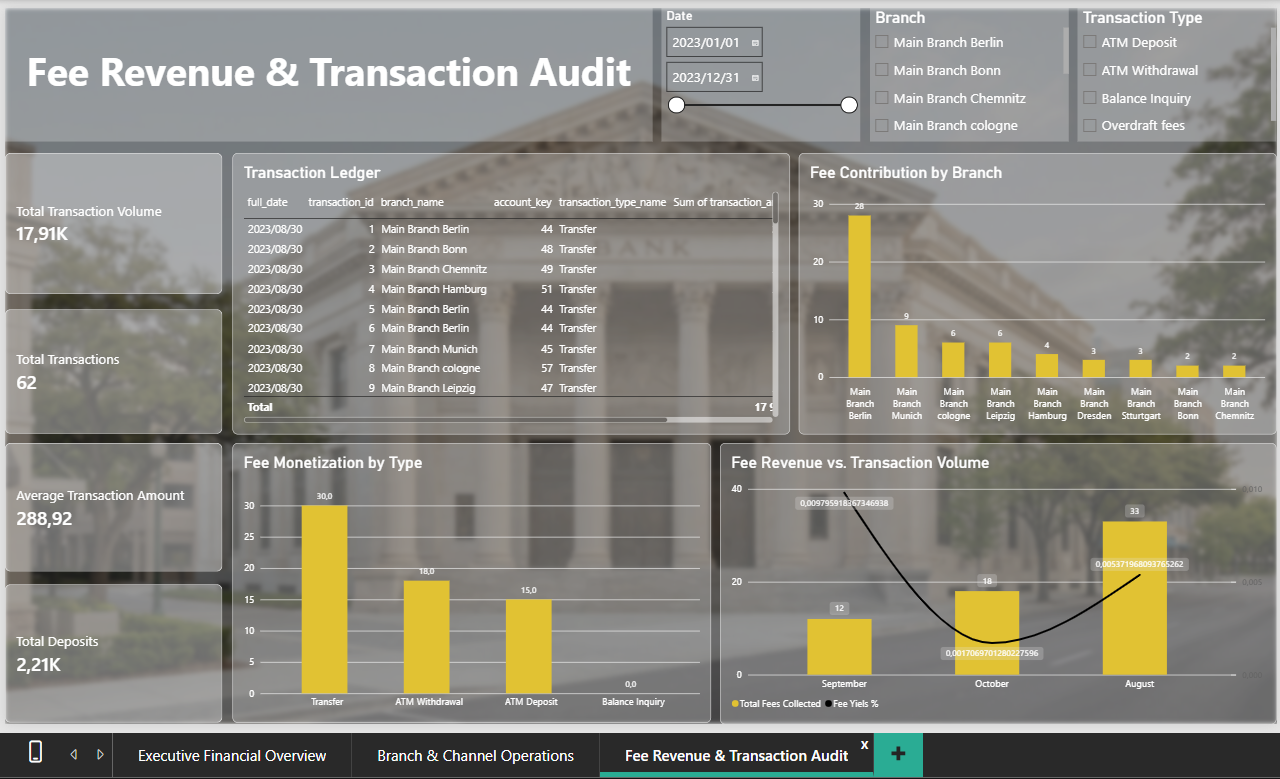

What the dashboard file says about the page in this screenshot:
{"tool":"powerbi","page":{"name":"Fee Revenue & Transaction Audit","canvas":[1920,1080],"ordinal":2},"visuals":[{"type":"image","box":[0,0,1920.4,1080.6],"z":0},{"type":"lineClusteredColumnComboChart","title":"Fee Revenue vs. Transaction Volume","fields":{"Category":["dw dim_date.month_name"],"Y":["dw fact_transactions.Total Fees Collected"],"Y2":["dw dim_account.Fee Yiels %"]},"box":[1079.2,656.6,839.6,424.5],"z":1000},{"type":"clusteredColumnChart","title":"Fee Monetization by Type","fields":{"Category":["dw dim_transaction_type.transaction_type_name"],"Y":["dw fact_transactions.Total Fees Collected"]},"box":[343.4,656.6,722.6,422.6],"z":2000},{"type":"clusteredColumnChart","title":"Fee Contribution by Branch","fields":{"Category":["dw dim_branch.branch_name"],"Y":["dw fact_transactions.Total Fees Collected"]},"box":[1198.2,219,721.5,425.2],"z":3000},{"type":"slicer","fields":{"Values":["dw dim_transaction_type.transaction_type_name"]},"box":[1618.9,0,300,201.9],"z":4000},{"type":"slicer","fields":{"Values":["dw dim_branch.branch_name"]},"box":[1305.7,0,300,201.9],"z":5000},{"type":"slicer","fields":{"Values":["dw dim_date.full_date"]},"box":[990.6,0,300,201.9],"z":6000},{"type":"textbox","box":[0,0,977.4,201.9],"z":7000},{"type":"cardVisual","fields":{"Data":["dw fact_transactions.Total Transaction Volume"]},"box":[0,218.9,328.3,213.2],"z":8000},{"type":"cardVisual","fields":{"Data":["dw fact_transactions.Total Transactions"]},"box":[0,454.7,328.3,188.7],"z":9000},{"type":"cardVisual","fields":{"Data":["dw fact_transactions.Average Transaction Amount"]},"box":[0,656.6,328.3,194.3],"z":10000},{"type":"cardVisual","fields":{"Data":["dw fact_transactions.Total Deposits"]},"box":[0,869.8,328.3,209.4],"z":11000},{"type":"tableEx","title":"Transaction Ledger","fields":{"Values":["dw dim_date.full_date","dw fact_transactions.transaction_id","dw dim_branch.branch_name","dw dim_account.account_key","dw dim_transaction_type.transaction_type_name","Sum(dw fact_transactions.transaction_amount)","Sum(dw fact_transactions.fee_amount)"]},"box":[343.4,218.9,841.5,424.5],"z":14000}]}

Visuals, with their boxes on the page's 1920x1080 design canvas (x1, y1, x2, y2). These are canvas units, not pixel positions in the 1280x779 screenshot, which may show the page scaled, cropped or inside an application window:
image: {"x1": 0, "y1": 0, "x2": 1920, "y2": 1081}
"Fee Revenue vs. Transaction Volume" lineClusteredColumnComboChart: {"x1": 1079, "y1": 657, "x2": 1919, "y2": 1081}
"Fee Monetization by Type" clusteredColumnChart: {"x1": 343, "y1": 657, "x2": 1066, "y2": 1079}
"Fee Contribution by Branch" clusteredColumnChart: {"x1": 1198, "y1": 219, "x2": 1920, "y2": 644}
slicer - dw dim_transaction_type.transaction_type_name: {"x1": 1619, "y1": 0, "x2": 1919, "y2": 202}
slicer - dw dim_branch.branch_name: {"x1": 1306, "y1": 0, "x2": 1606, "y2": 202}
slicer - dw dim_date.full_date: {"x1": 991, "y1": 0, "x2": 1291, "y2": 202}
textbox: {"x1": 0, "y1": 0, "x2": 977, "y2": 202}
cardVisual - dw fact_transactions.Total Transaction Volume: {"x1": 0, "y1": 219, "x2": 328, "y2": 432}
cardVisual - dw fact_transactions.Total Transactions: {"x1": 0, "y1": 455, "x2": 328, "y2": 643}
cardVisual - dw fact_transactions.Average Transaction Amount: {"x1": 0, "y1": 657, "x2": 328, "y2": 851}
cardVisual - dw fact_transactions.Total Deposits: {"x1": 0, "y1": 870, "x2": 328, "y2": 1079}
"Transaction Ledger" tableEx: {"x1": 343, "y1": 219, "x2": 1185, "y2": 643}
